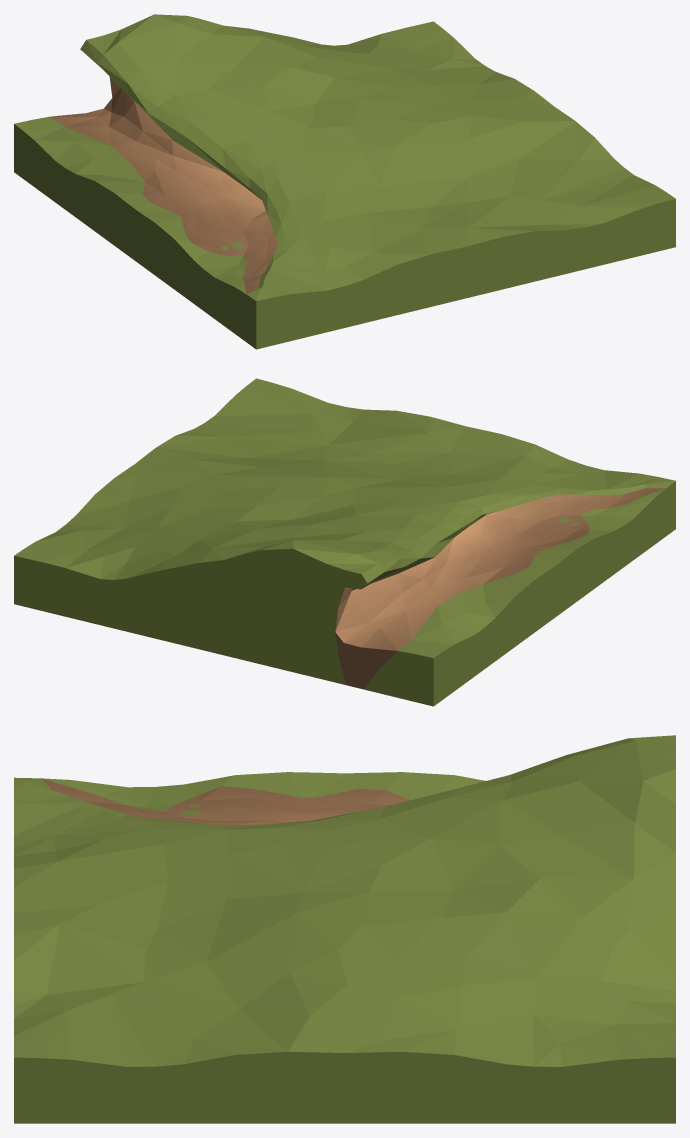
The model's file is Terrian_CliffGrass_Hill_End-02.fbx.
3 renders of one model, top to bottom at view 1: azimuth 30°, elevation 25°; view 2: azimuth 150°, elevation 25°; view 3: azimuth 270°, elevation 25°, orthographic. The views are drawn at different scales.
Visible parts, largest first — view 1: Terrian_CliffGrass_Hill_End-02; view 2: Terrian_CliffGrass_Hill_End-02; view 3: Terrian_CliffGrass_Hill_End-02.
Part boxes in pixels (x1,y1,x2,y2): Terrian_CliffGrass_Hill_End-02: (14,14,675,349); Terrian_CliffGrass_Hill_End-02: (14,378,675,706); Terrian_CliffGrass_Hill_End-02: (14,735,675,1123).
Bounding box in the file's own units: 3600 × 1013 × 3600.
Materials: 1 (1 with a texture image).
